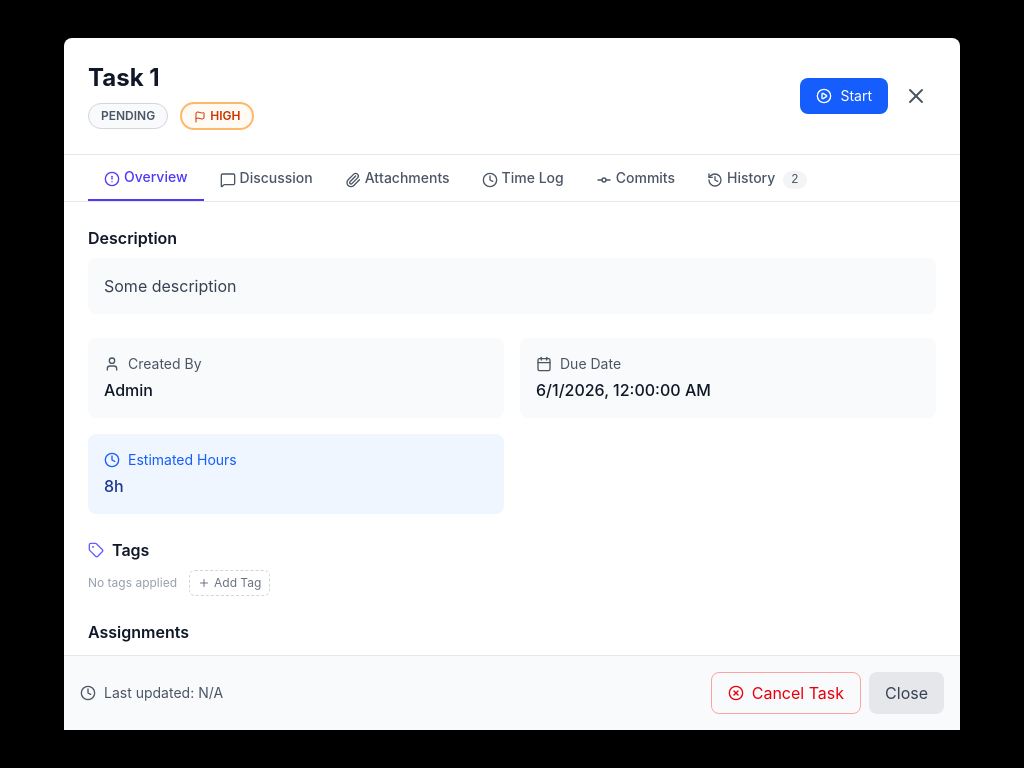
TaskDetailsModal additional coverage › shows multiple history entries
The image size is (1024, 768).
Click the button "History2".
click(757, 178)  # box [691,155,822,201]
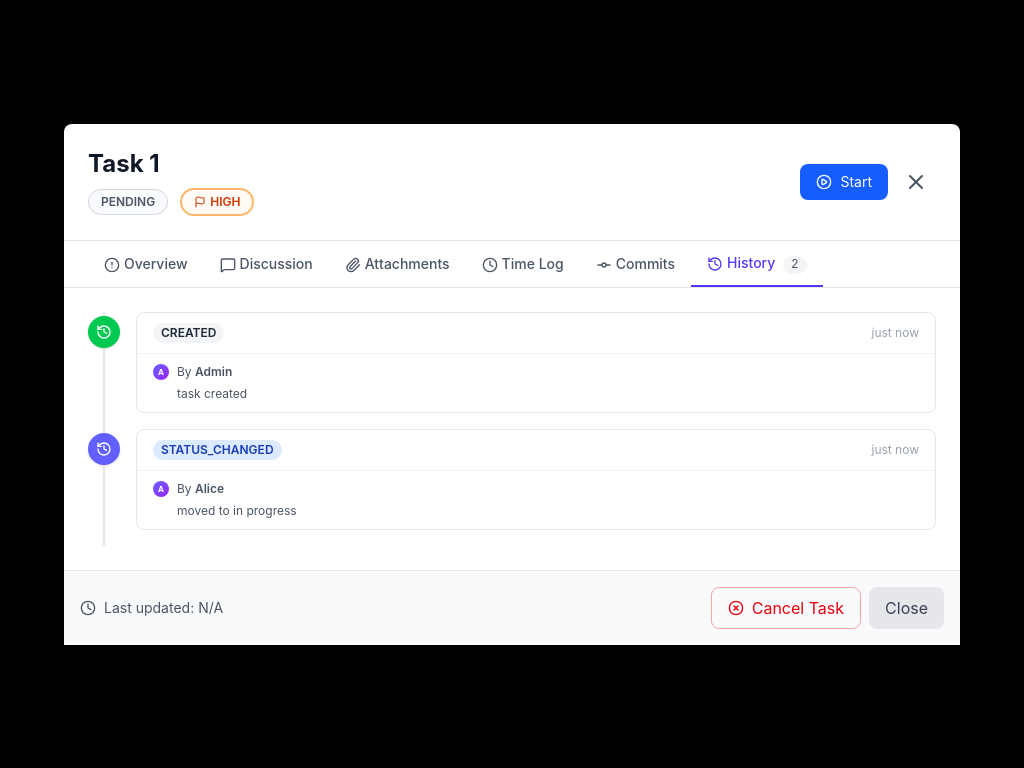
Expected: the text "CREATED" is shown, [153,322,224,342]
Expected: the text "STATUS_CHANGED" is shown, [153,440,282,460]
